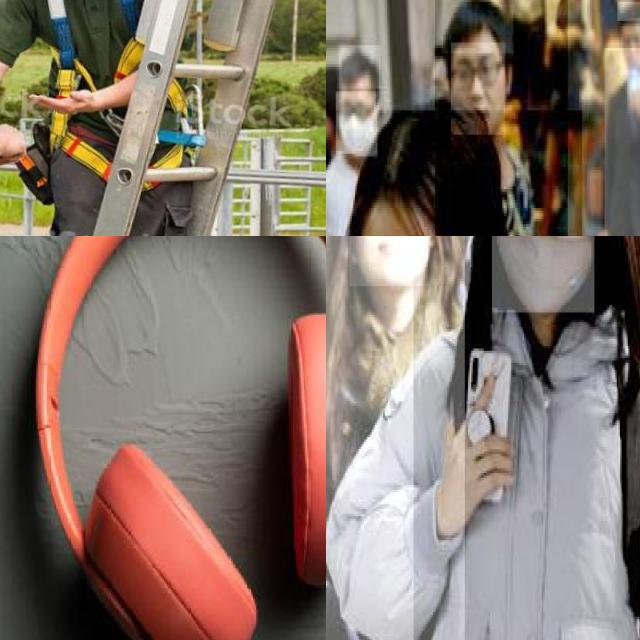Ear-protection: (17, 236, 326, 640)
Harness: (46, 0, 200, 200)
face_mask: (492, 236, 596, 315), (336, 92, 377, 156)
face_nomask: (451, 42, 505, 134), (349, 236, 429, 288), (620, 26, 640, 75)
hand_noglove: (427, 360, 525, 526)
head_nohelmet: (356, 113, 489, 236), (441, 0, 513, 52), (339, 46, 382, 91), (617, 1, 640, 23)
person: (413, 236, 640, 640), (326, 236, 466, 640), (326, 110, 583, 236), (434, 0, 569, 236), (585, 0, 640, 236)
